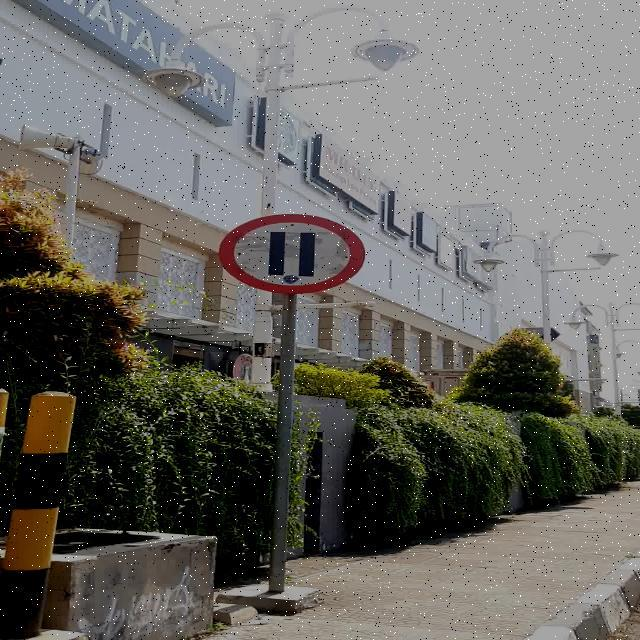Larangan Muatan - 10 ton: (220, 213, 364, 294)
